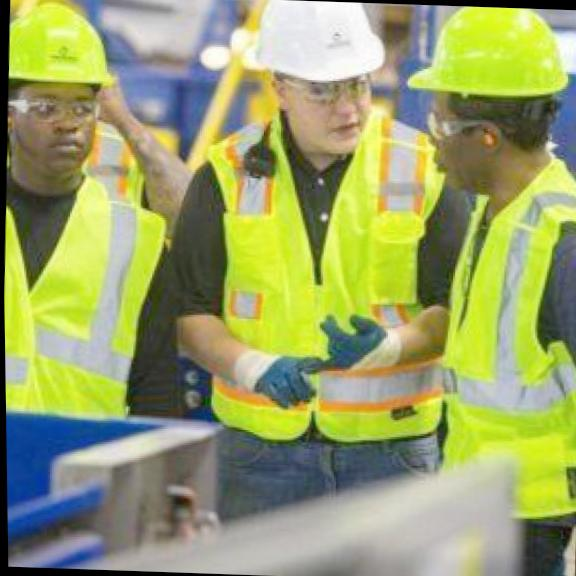safety_vest: (198, 104, 429, 461), (419, 143, 576, 517), (2, 156, 166, 404)
